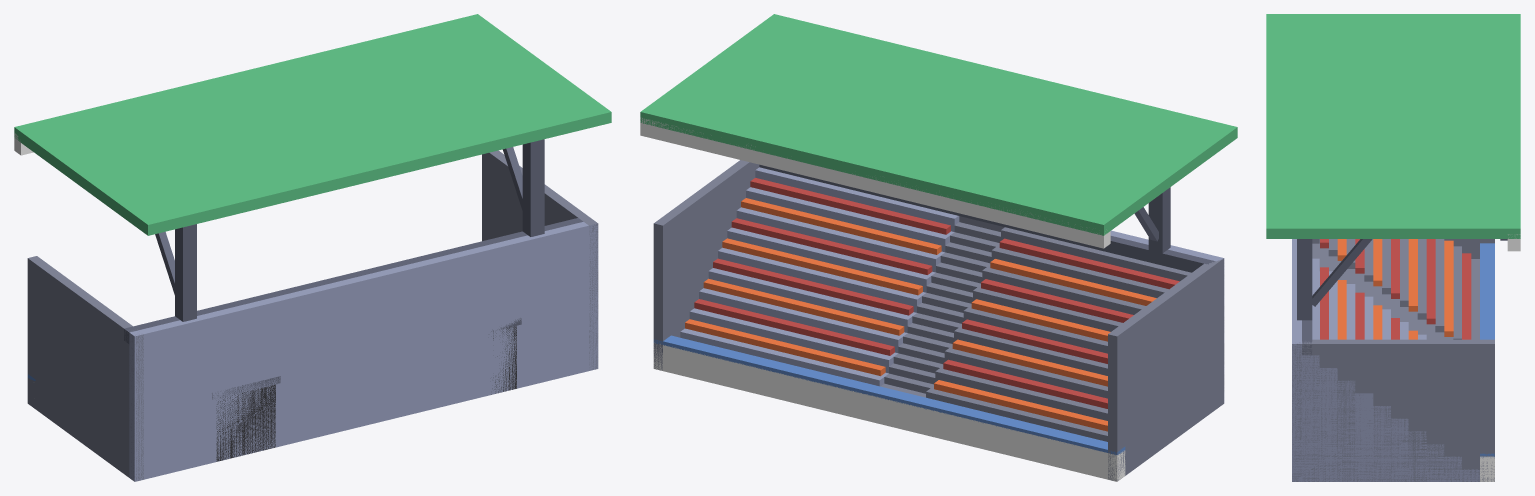
File: tribune-couverte.glb
3 views of the same model, side by side, from view 1: azimuth 30°, elevation 25°; view 2: azimuth 150°, elevation 25°; view 3: azimuth 270°, elevation 25° (orthographic). The views are drawn at different scales.
Parts seen in each view (by area): view 1: mur-arriere, auvent, joue-0, joue-1, ouverture-0, garde-corps, poteau-1, poteau-0, rang-9-0, rang-8-0, rang-7-0, rang-6-0 (+2 smaller); view 2: auvent, joue-0, muret, joue-1, auvent-nez, muret-lisse, rang-7-0, garde-corps, rang-8-1, rang-7-1, rang-6-1, rang-2-1 (+30 smaller); view 3: auvent, joue-1, rang-9-1, rang-8-1, rang-7-1, rang-6-1, mur-arriere, rang-5-1, muret-lisse, poteau-1, rang-4-1, siege-1-0 (+23 smaller).
Boxes of the visible parts, bbox=[...] form: mur-arriere: bbox=[129, 222, 598, 481]; auvent: bbox=[14, 14, 611, 235]; joue-0: bbox=[27, 256, 143, 481]; joue-1: bbox=[482, 150, 598, 369]; ouverture-0: bbox=[216, 384, 275, 461]; garde-corps: bbox=[124, 218, 583, 344]; poteau-1: bbox=[522, 139, 544, 236]; poteau-0: bbox=[175, 224, 196, 321]; rang-9-0: bbox=[120, 338, 129, 477]; rang-8-0: bbox=[110, 344, 119, 468]; rang-7-0: bbox=[101, 351, 110, 463]; rang-6-0: bbox=[92, 357, 101, 455]; auvent: bbox=[640, 14, 1237, 235]; joue-0: bbox=[1108, 258, 1224, 481]; muret: bbox=[653, 342, 1125, 481]; joue-1: bbox=[653, 160, 759, 370]; auvent-nez: bbox=[640, 117, 1110, 248]; muret-lisse: bbox=[653, 335, 1125, 455]; rang-7-0: bbox=[982, 265, 1200, 417]; garde-corps: bbox=[759, 164, 1214, 272]; rang-8-1: bbox=[746, 187, 954, 252]; rang-7-1: bbox=[736, 207, 944, 272]; rang-6-1: bbox=[727, 227, 935, 292]; rang-2-1: bbox=[689, 308, 897, 373]; auvent: bbox=[1266, 14, 1520, 238]; joue-1: bbox=[1292, 339, 1494, 481]; rang-9-1: bbox=[1302, 258, 1319, 481]; rang-8-1: bbox=[1319, 271, 1337, 481]; rang-7-1: bbox=[1337, 284, 1355, 481]; rang-6-1: bbox=[1355, 296, 1373, 481]; mur-arriere: bbox=[1292, 239, 1301, 481]; rang-5-1: bbox=[1373, 309, 1390, 481]; muret-lisse: bbox=[1480, 243, 1494, 457]; poteau-1: bbox=[1297, 239, 1312, 320]; rang-4-1: bbox=[1391, 322, 1408, 481]; siege-1-0: bbox=[1444, 240, 1453, 336].
Bounding box in the file's own units: 1 × 0.55 × 0.5.
